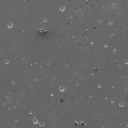corrosion: (58, 4, 66, 12), (6, 21, 14, 29), (38, 27, 46, 35), (58, 84, 65, 92), (32, 117, 39, 125), (118, 100, 125, 108), (79, 121, 86, 128), (91, 69, 99, 75), (42, 16, 48, 23), (4, 59, 10, 66), (96, 83, 102, 89), (27, 109, 33, 115), (103, 42, 108, 48), (49, 91, 54, 97), (108, 19, 113, 25), (89, 39, 93, 45), (124, 59, 128, 65), (110, 99, 114, 104), (14, 118, 18, 123)
